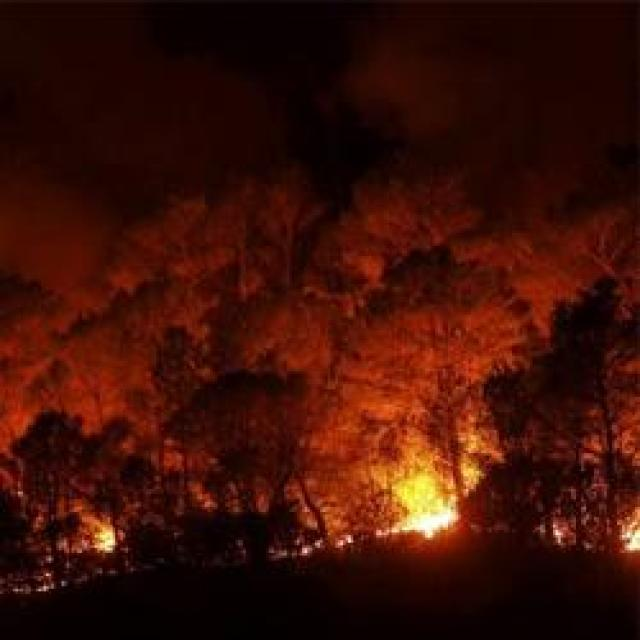Fire: (397, 477, 461, 538), (85, 523, 121, 556), (624, 518, 640, 558)
